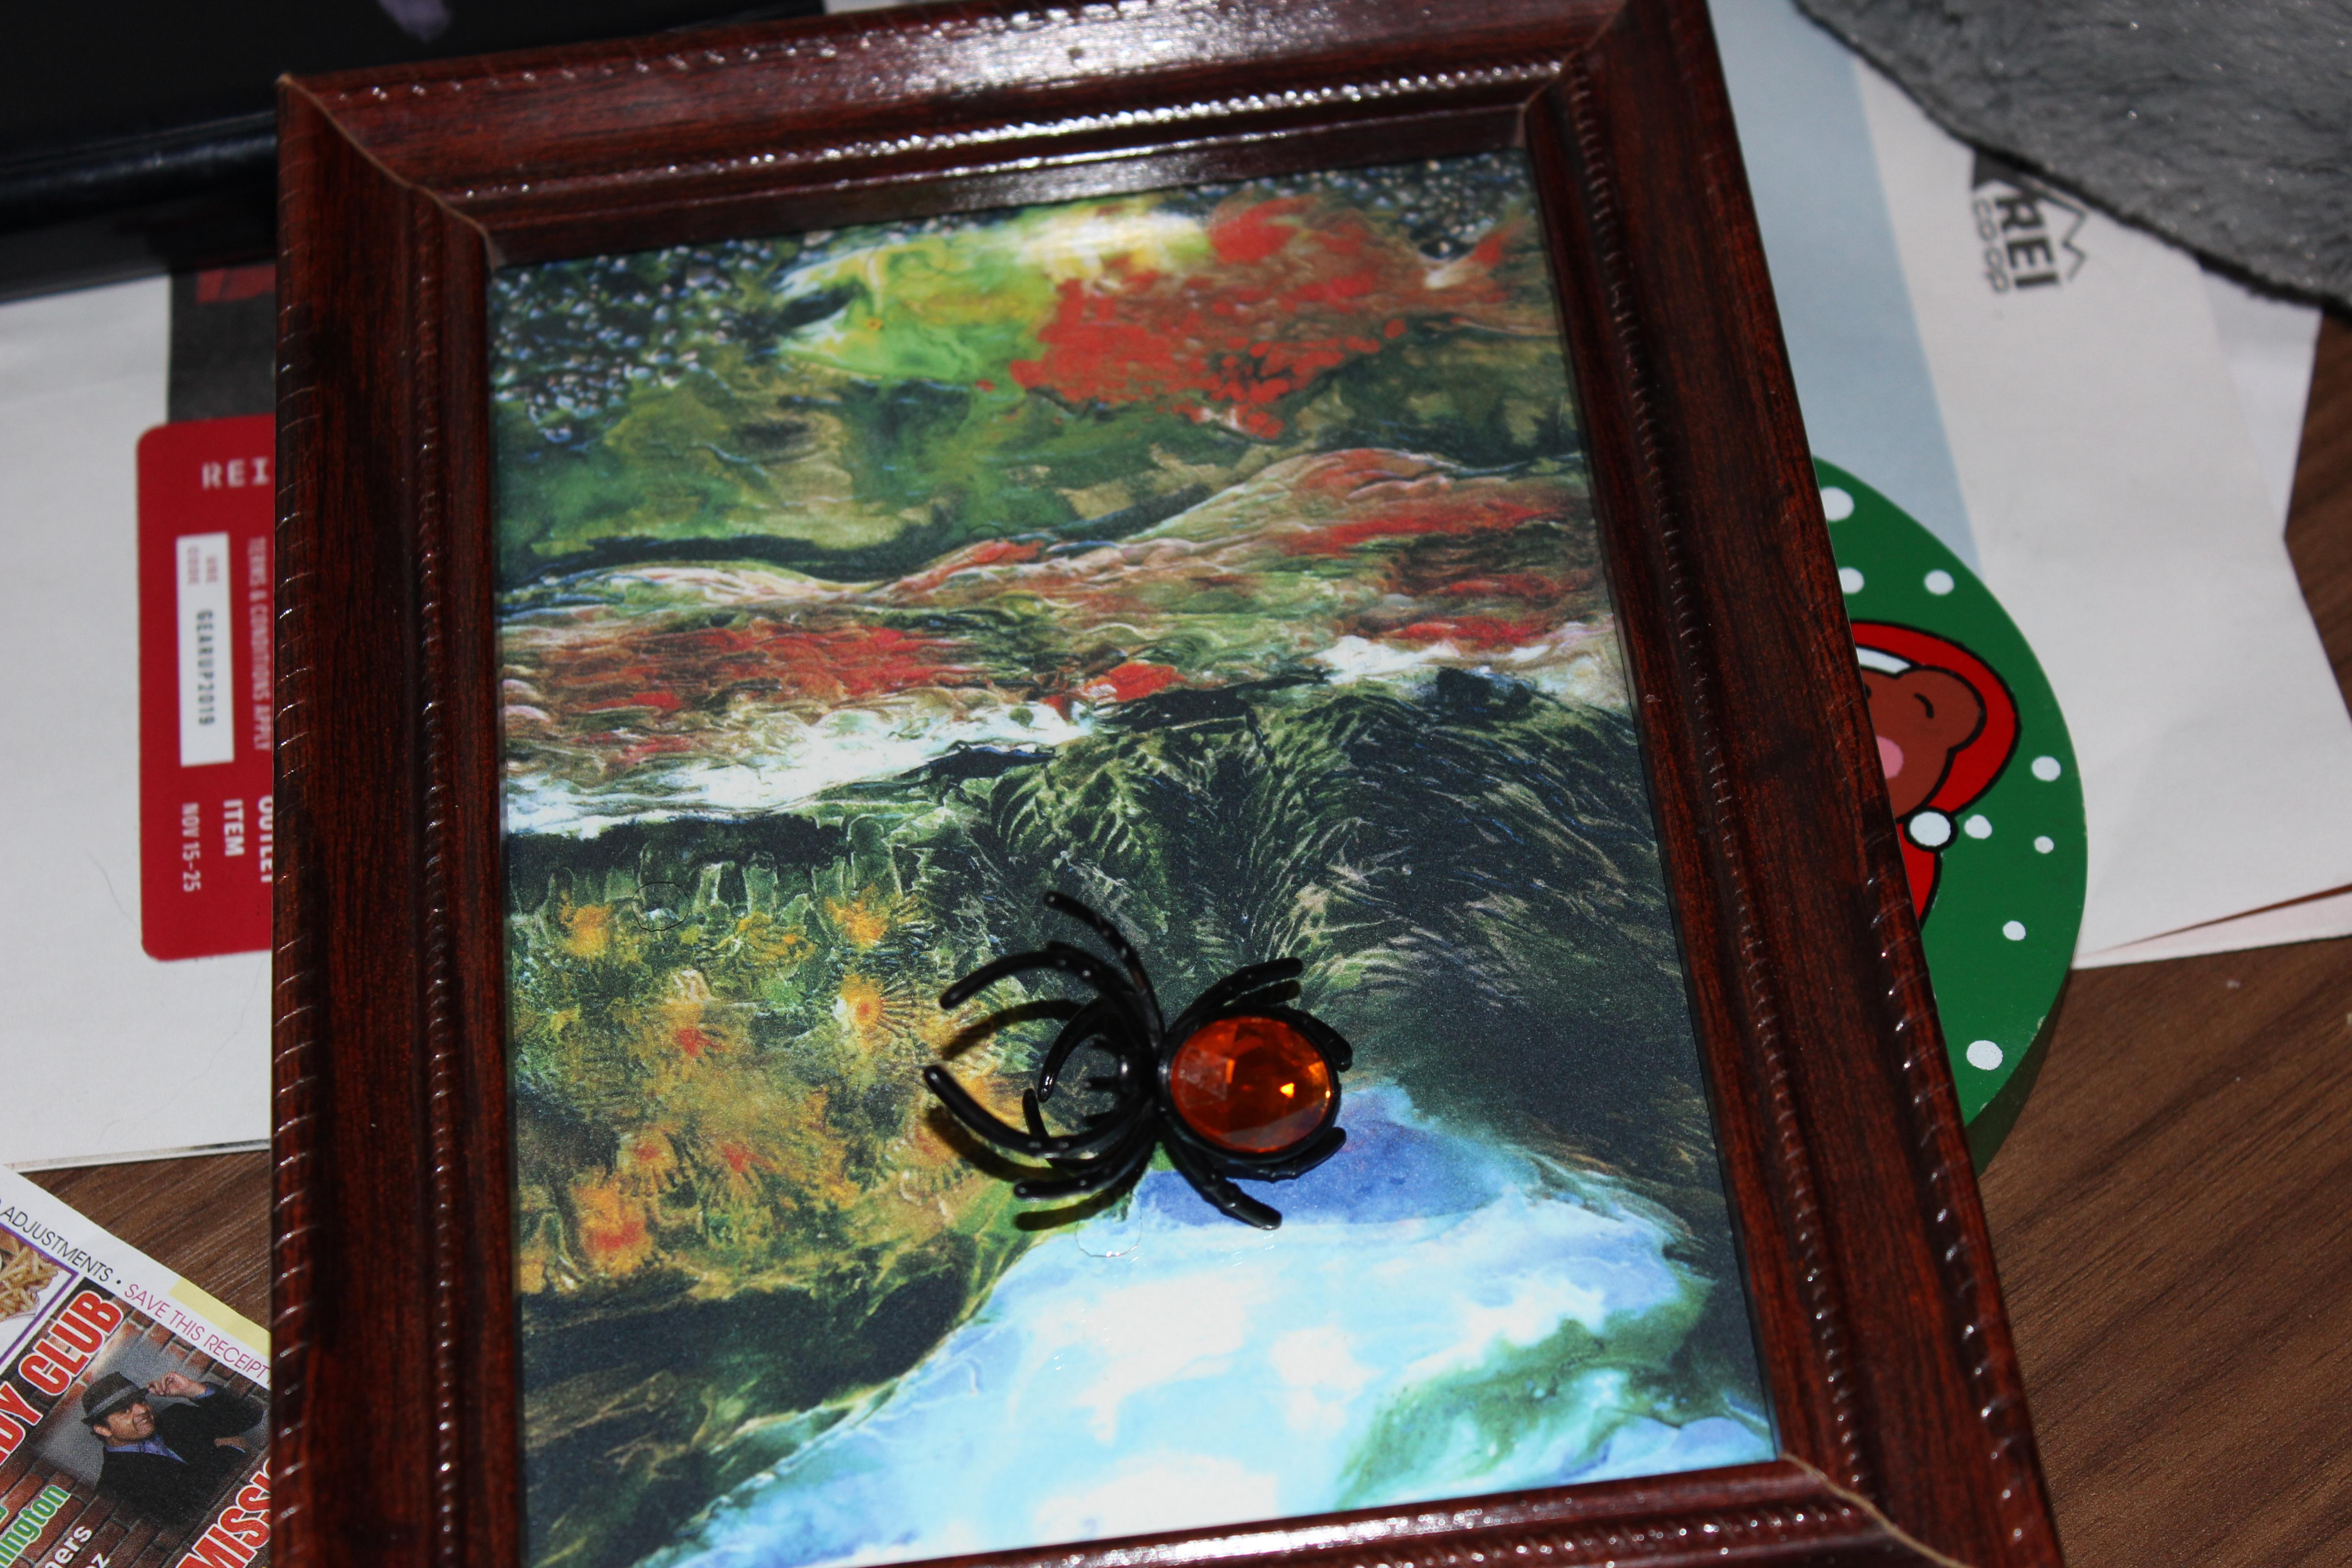spiderRing: (880, 870, 1381, 1269)
